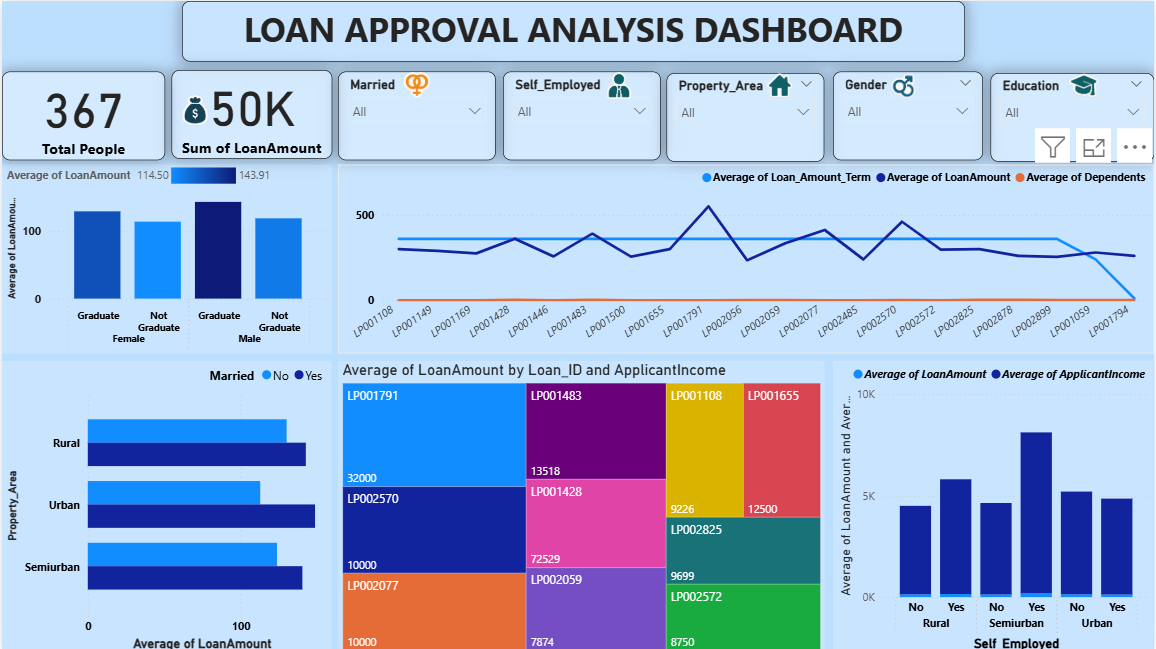

The dashboard page shown, as its layout file describes it:
{"tool":"powerbi","page":{"name":"Page 1","canvas":[1280,720],"ordinal":0},"visuals":[{"type":"slicer","fields":{"Values":["Sheet1.Self_Employed"]},"box":[556.7,78.3,175,98.3],"z":0},{"type":"textbox","box":[200,0,870,67],"z":5000},{"type":"slicer","fields":{"Values":["Sheet1.Education"]},"box":[1098.3,80,181.7,98.3],"z":6000},{"type":"slicer","fields":{"Values":["Sheet1.Gender"]},"box":[923.3,78.3,166.7,98.3],"z":7000},{"type":"slicer","fields":{"Values":["Sheet1.Property_Area"]},"box":[738.3,80,175,98.3],"z":8000},{"type":"slicer","fields":{"Values":["Sheet1.Married"]},"box":[373.3,78.3,175,98.3],"z":9000},{"type":"card","fields":{"Values":["Sum(Sheet1.LoanAmount)"]},"box":[188.3,76.7,178.3,98.3],"z":10000},{"type":"card","fields":{"Values":["Count(Sheet1.Loan_ID)"]},"box":[0,77.9,181.3,98.6],"z":11000},{"type":"treemap","fields":{"Group":["Sheet1.Loan_ID"],"Values":["Avg(Sheet1.LoanAmount)"],"Details":["Sheet1.ApplicantIncome"]},"box":[373.8,399.2,540.8,321.3],"z":12000},{"type":"clusteredColumnChart","fields":{"Y":["Avg(Sheet1.LoanAmount)"],"Category":["Sheet1.Gender","Sheet1.Education"]},"box":[0,181.7,366.7,210],"z":13000},{"type":"lineChart","fields":{"Category":["Sheet1.Loan_ID"],"Y":["Avg(Sheet1.Loan_Amount_Term)","Avg(Sheet1.LoanAmount)","Avg(Sheet1.Dependents)"]},"box":[373.3,181.7,906.7,210],"z":14000},{"type":"lineStackedColumnComboChart","fields":{"Category":["Sheet1.Property_Area","Sheet1.Self_Employed"],"Y":["Avg(Sheet1.LoanAmount)","Avg(Sheet1.ApplicantIncome)"]},"box":[922.6,399.2,356.3,321.3],"z":15000},{"type":"clusteredBarChart","fields":{"Y":["Avg(Sheet1.LoanAmount)"],"Category":["Sheet1.Property_Area"],"Series":["Sheet1.Married"]},"box":[0,399.2,365.8,321.3],"z":16000},{"type":"image","box":[436.7,66.7,48.3,48.3],"z":17000},{"type":"image","box":[661.7,70,46.7,46.7],"z":18000},{"type":"image","box":[833.3,70,60,45],"z":18500},{"type":"image","box":[980,70,43.3,46.7],"z":19000},{"type":"image","box":[1175,70,55,46.7],"z":19500},{"type":"image","box":[183.3,96.7,60,48.3],"z":20000}]}

Visuals, with their boxes in screenshot pixels (x1, y1, x2, y2), scaled from the page's 1280x720 canvas onto the 1156x649 screenshot:
slicer - Sheet1.Self_Employed: bbox=(503, 71, 661, 159)
textbox: bbox=(181, 0, 966, 60)
slicer - Sheet1.Education: bbox=(992, 72, 1155, 161)
slicer - Sheet1.Gender: bbox=(834, 71, 984, 159)
slicer - Sheet1.Property_Area: bbox=(667, 72, 825, 161)
slicer - Sheet1.Married: bbox=(337, 71, 495, 159)
card - Sum(Sheet1.LoanAmount): bbox=(170, 69, 331, 158)
card - Count(Sheet1.Loan_ID): bbox=(0, 70, 164, 159)
treemap - Sheet1.Loan_ID x Avg(Sheet1.LoanAmount): bbox=(338, 360, 826, 648)
clusteredColumnChart - Avg(Sheet1.LoanAmount) x Sheet1.Gender: bbox=(0, 164, 331, 353)
lineChart - Sheet1.Loan_ID x Avg(Sheet1.Loan_Amount_Term): bbox=(337, 164, 1155, 353)
lineStackedColumnComboChart - Sheet1.Property_Area x Sheet1.Self_Employed: bbox=(833, 360, 1155, 648)
clusteredBarChart - Avg(Sheet1.LoanAmount) x Sheet1.Property_Area: bbox=(0, 360, 330, 648)
image: bbox=(394, 60, 438, 104)
image: bbox=(598, 63, 640, 105)
image: bbox=(753, 63, 807, 104)
image: bbox=(885, 63, 924, 105)
image: bbox=(1061, 63, 1111, 105)
image: bbox=(166, 87, 220, 131)
